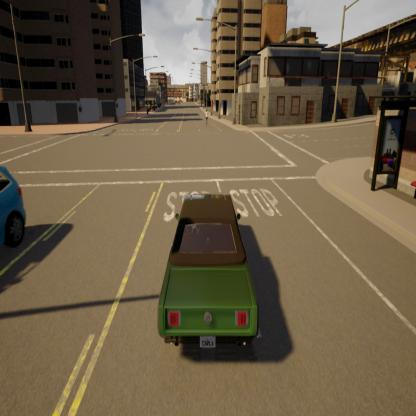Cars: (155, 186, 264, 366), (0, 160, 31, 264)
